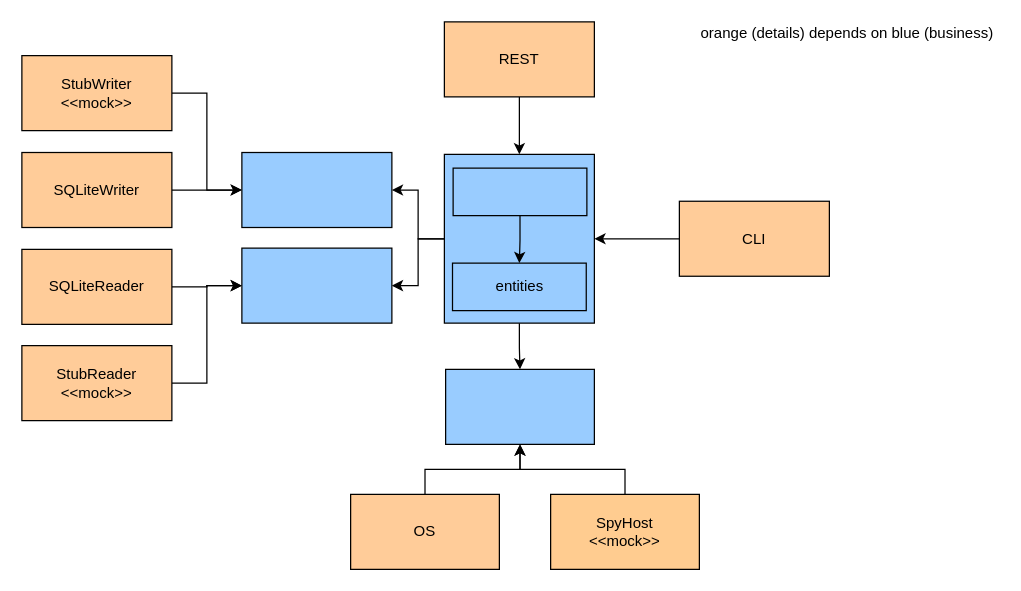
This 1021x591 diagram has some shape labels left out. The shapes that lost their labels are listed below. From the top down, each one's box as (x1, y1, x2, y2) in pixels, then its label:
(241, 151, 392, 228): Writer <<interface>>
(452, 167, 587, 216): usecases
(241, 247, 392, 323): Reader <<interface>>
(444, 368, 594, 444): Host <<interface>>
